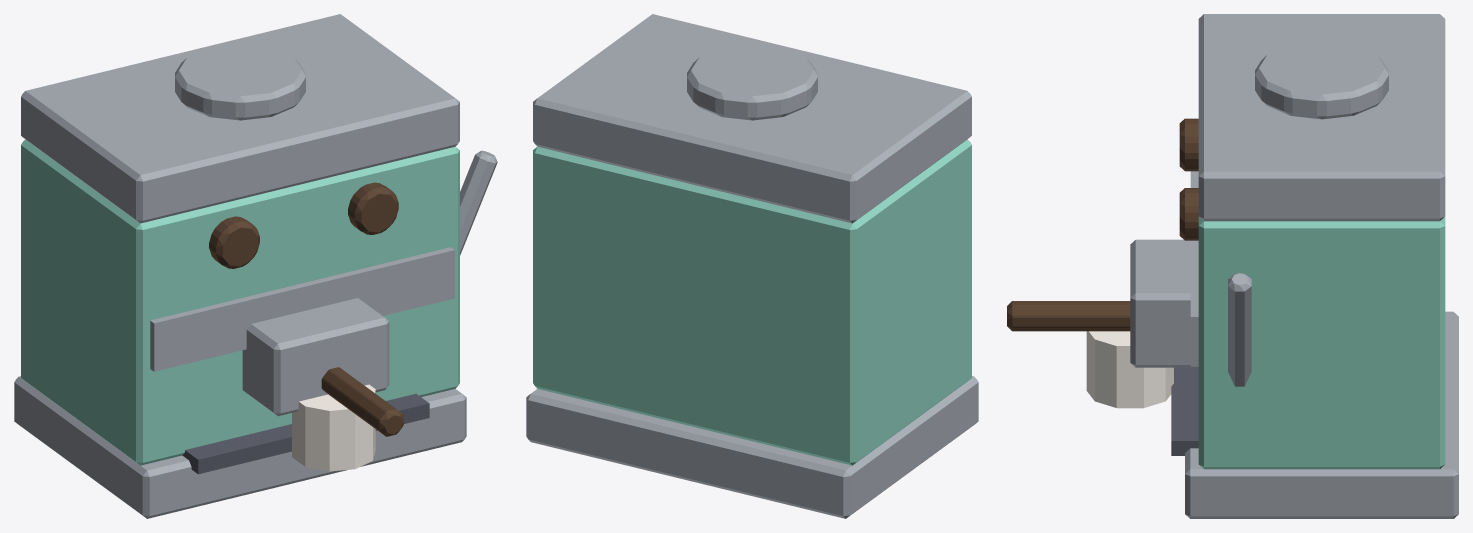
The model's file is CatCafe_Furniture_EspressoMachine_L2.glb.
3 views of the same model, side by side, from view 1: azimuth 30°, elevation 25°; view 2: azimuth 150°, elevation 25°; view 3: azimuth 270°, elevation 25° (orthographic). The views are drawn at different scales.
Parts seen in each view (by area): view 1: CatCafe_Furniture_EspressoMachine_L2, CatCafe_Furniture_EspressoMachine_L2_Steam; view 2: CatCafe_Furniture_EspressoMachine_L2; view 3: CatCafe_Furniture_EspressoMachine_L2, CatCafe_Furniture_EspressoMachine_L2_Steam.
Part boxes in pixels (x1,y1,x2,y2): CatCafe_Furniture_EspressoMachine_L2: (14,14,497,518); CatCafe_Furniture_EspressoMachine_L2_Steam: (292,384,375,471); CatCafe_Furniture_EspressoMachine_L2: (526,14,978,518); CatCafe_Furniture_EspressoMachine_L2: (1007,14,1458,518); CatCafe_Furniture_EspressoMachine_L2_Steam: (1086,331,1173,408).
Bounding box in the file's own units: 1.63 × 1.5 × 1.65.
1 material, 1 textured.
